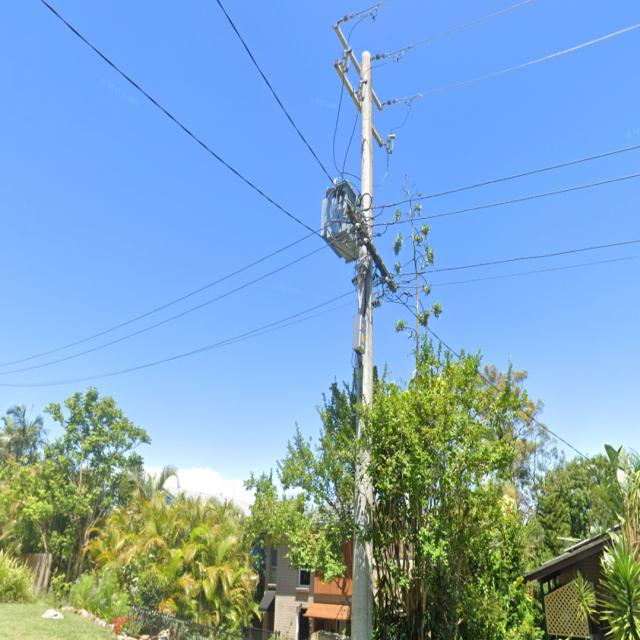HV-transmission: (332, 1, 422, 154)
concrete-pole: (351, 48, 374, 640)
crossarm: (334, 58, 384, 149), (345, 206, 397, 293), (334, 23, 384, 112)
transformer: (320, 177, 363, 262)
